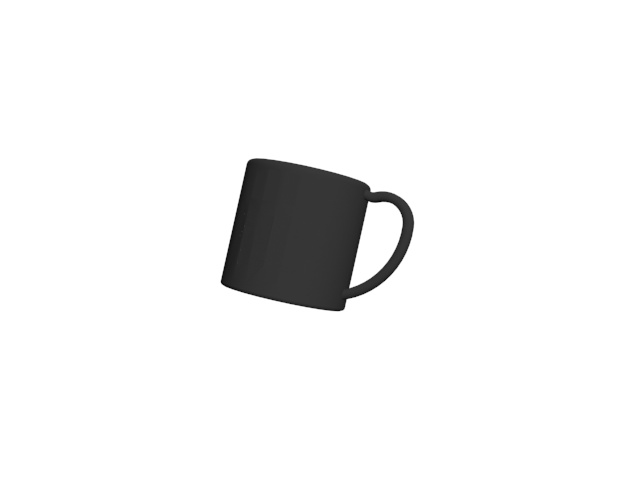mug: (217, 153, 416, 312)
